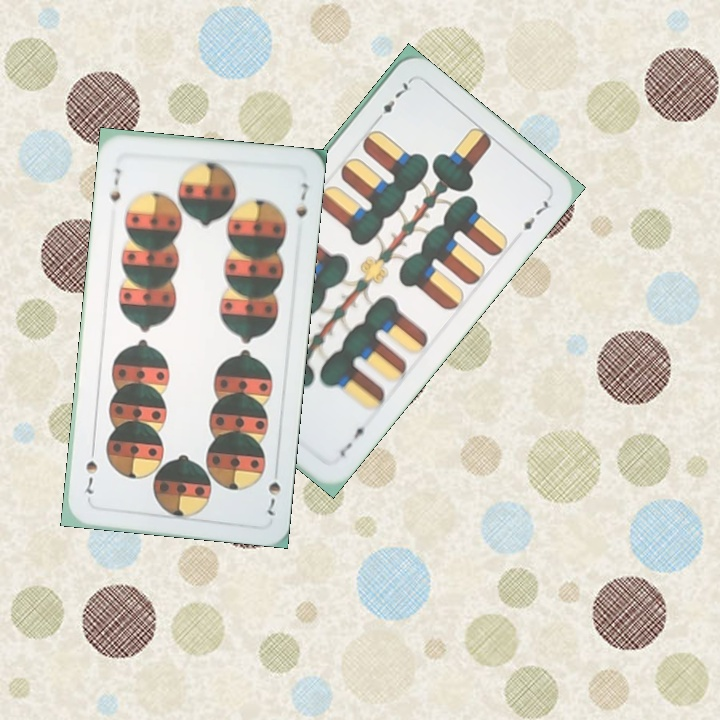E7: (371, 76, 414, 126), (335, 418, 373, 460)
S7: (263, 477, 283, 519), (106, 164, 123, 204)
